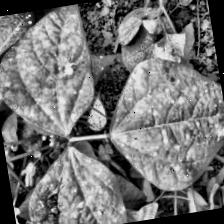Bean Rust: (95, 49, 224, 198), (0, 3, 100, 144), (13, 139, 130, 224), (0, 10, 45, 64)
